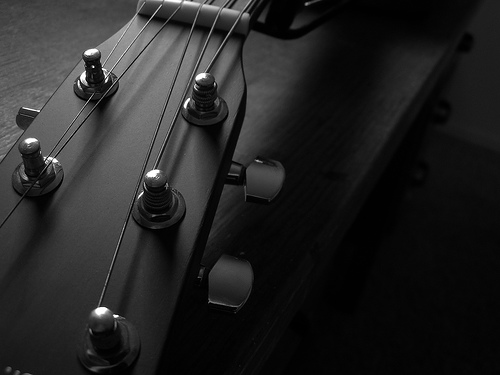guitar: (1, 1, 265, 375)
